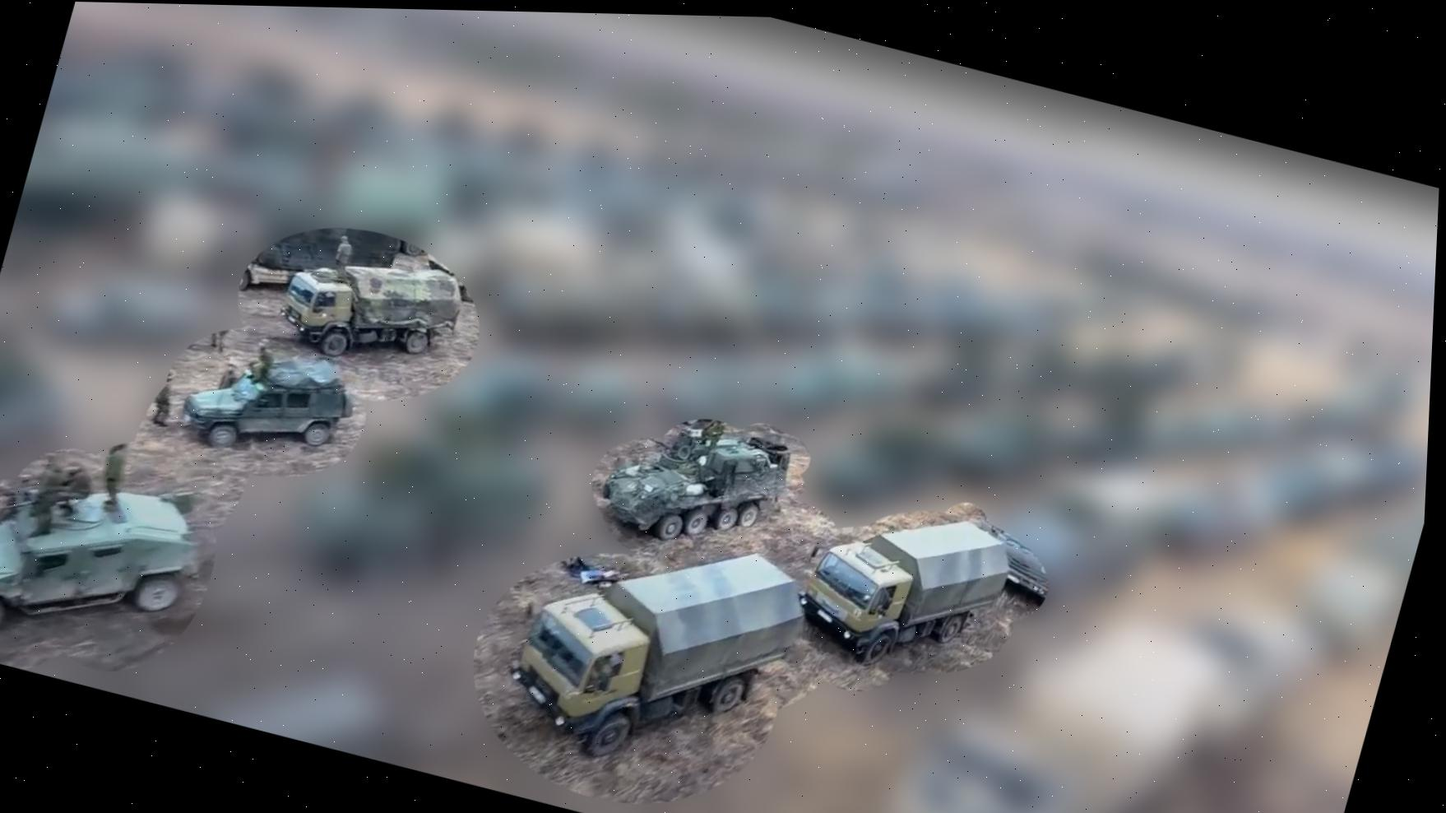armored_car: (0, 441, 219, 692), (589, 393, 806, 568), (170, 335, 364, 482)
truck: (493, 501, 819, 800), (782, 484, 1024, 693), (267, 227, 482, 392)
